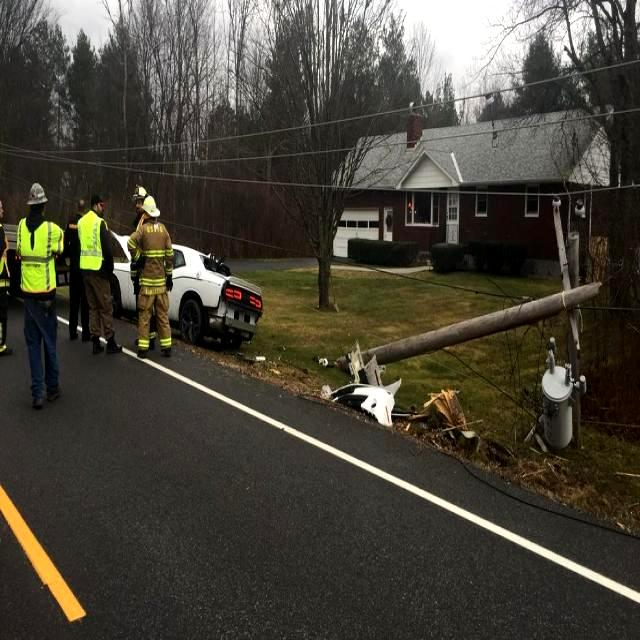Broken Pole: (337, 201, 604, 456)
